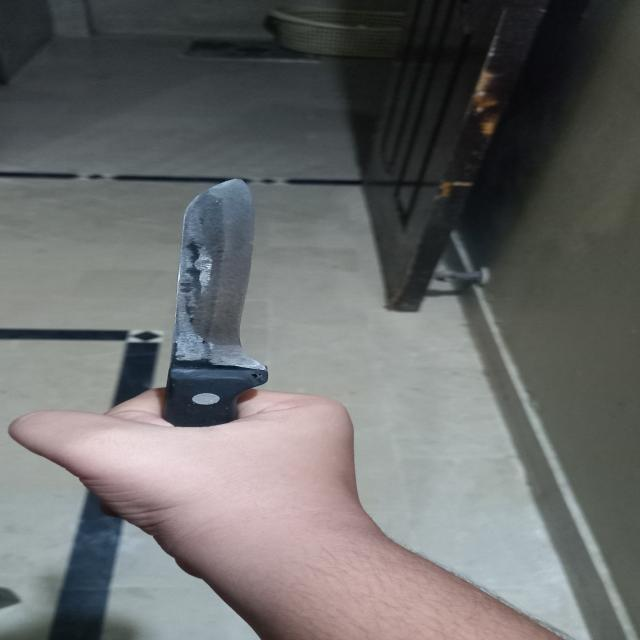Knife: (15, 160, 362, 511)
